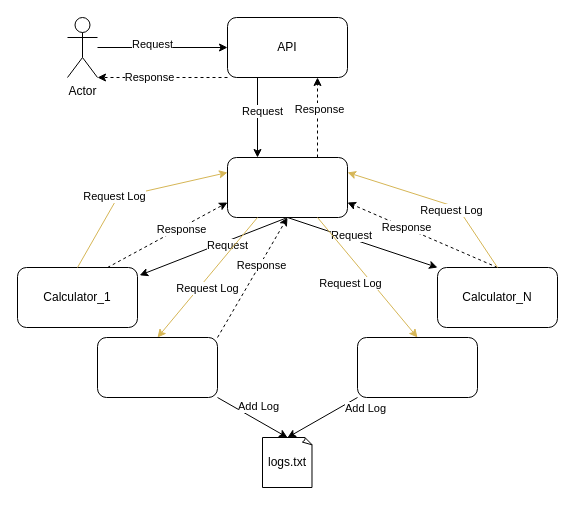
Image size: 575x505. Some labels were removed from this diagram. Each missing label, with the box of its shape:
logger_1: (96, 336, 218, 398)
logger_N: (356, 336, 478, 398)
Nginx: (226, 156, 348, 218)
